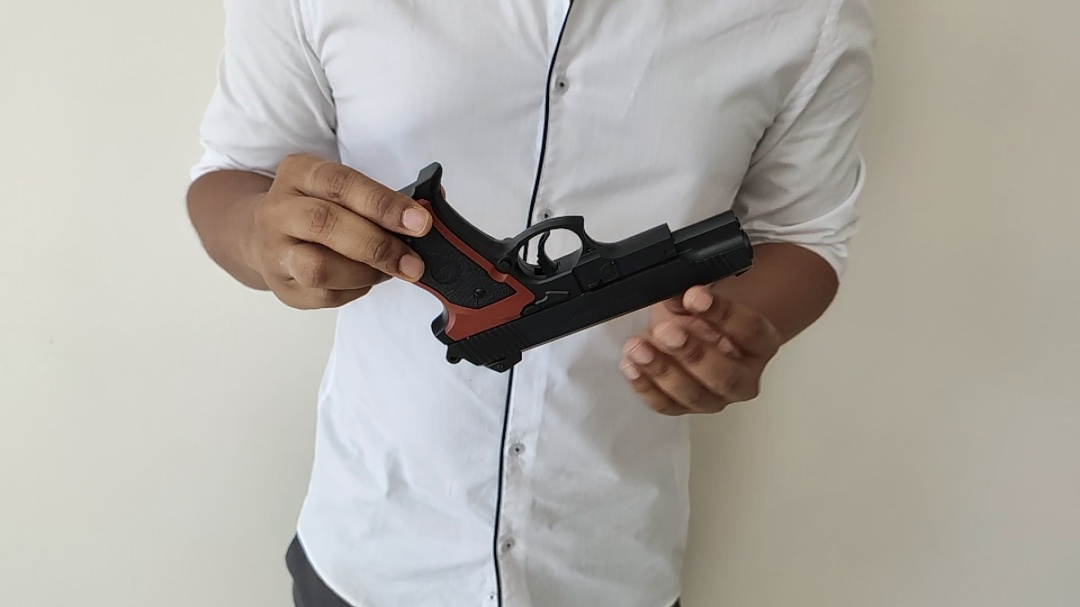gun: (394, 160, 754, 375)
